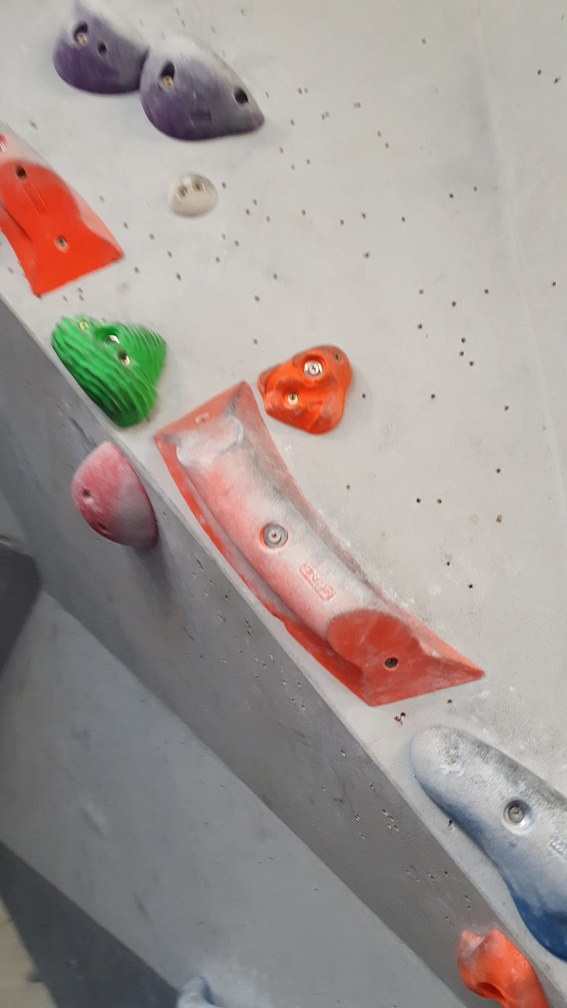Jug: (46, 313, 169, 438), (140, 35, 264, 139), (53, 1, 153, 100)
Pinch: (148, 375, 488, 707), (401, 716, 567, 966), (1, 125, 130, 299)
Sloper: (69, 439, 160, 550)
